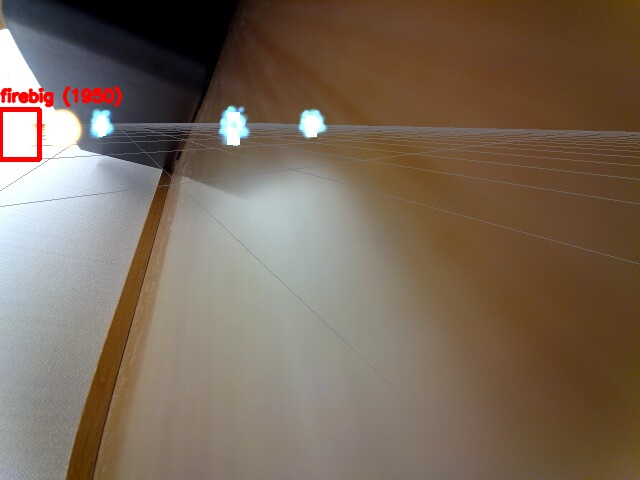firebig: (0, 109, 39, 159)
